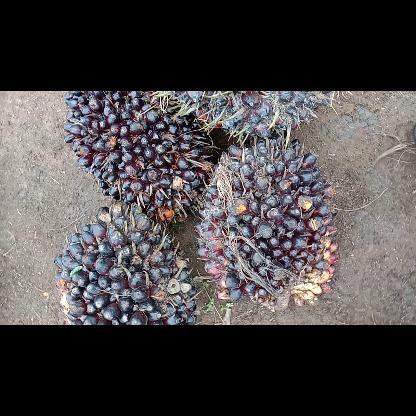TBS mentah: (193, 134, 344, 312), (59, 90, 219, 228), (50, 198, 202, 324), (166, 90, 344, 142)
